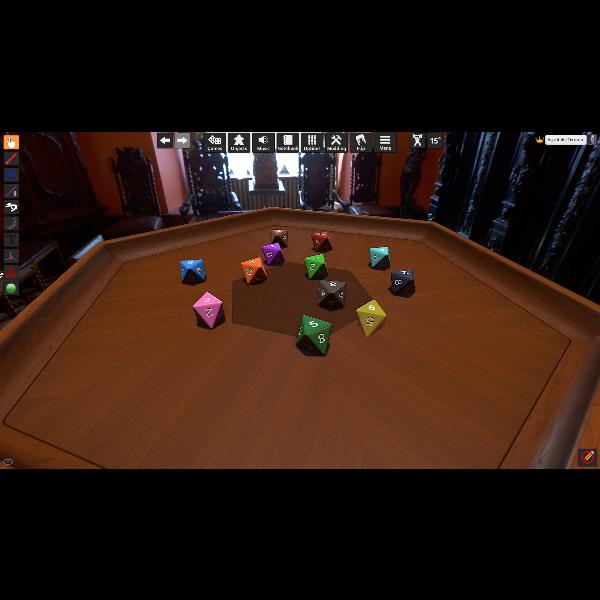d8: (296, 314, 328, 354), (192, 292, 224, 328), (356, 299, 386, 337), (318, 280, 344, 309), (240, 256, 266, 284), (180, 258, 205, 284), (391, 269, 415, 295), (305, 253, 327, 279), (262, 242, 284, 266), (370, 246, 390, 268), (311, 231, 331, 251), (270, 228, 288, 246)
